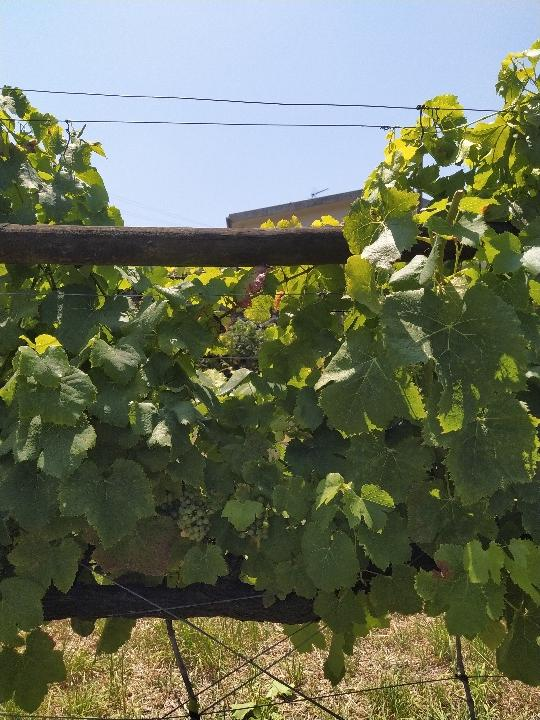grape: (174, 489, 219, 543)
